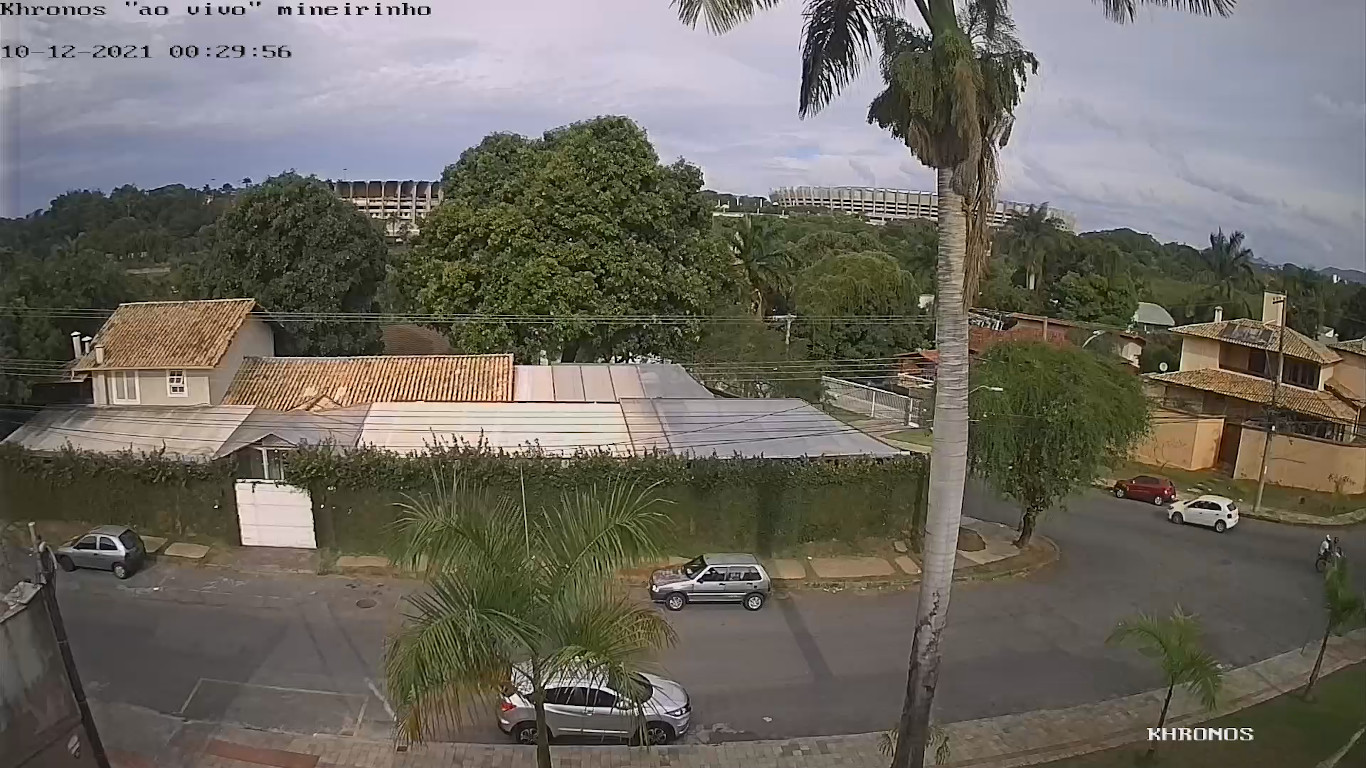car: (490, 651, 691, 748), (648, 551, 774, 611), (1165, 494, 1241, 536), (1111, 470, 1177, 507)
